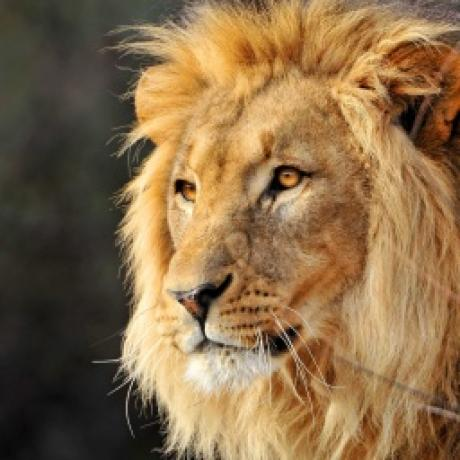Lion: (109, 0, 460, 460)
